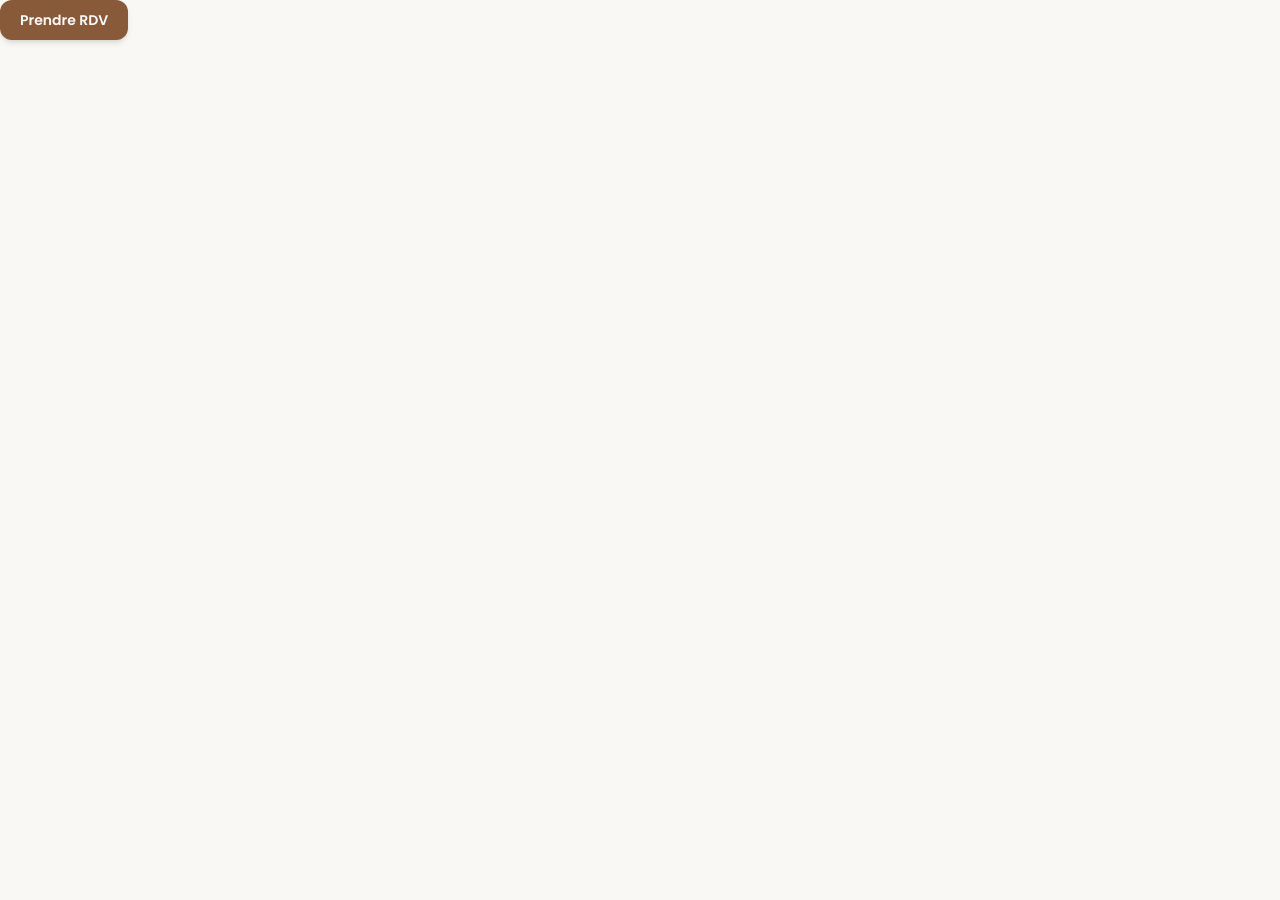
Test: booking choice › opens the choice instead of going straight to one link
The image size is (1280, 900).
Expected: the link "WhatsApp" is not shown
Click the button "Prendre RDV". click: (64, 20)
box: [0, 0, 128, 40]
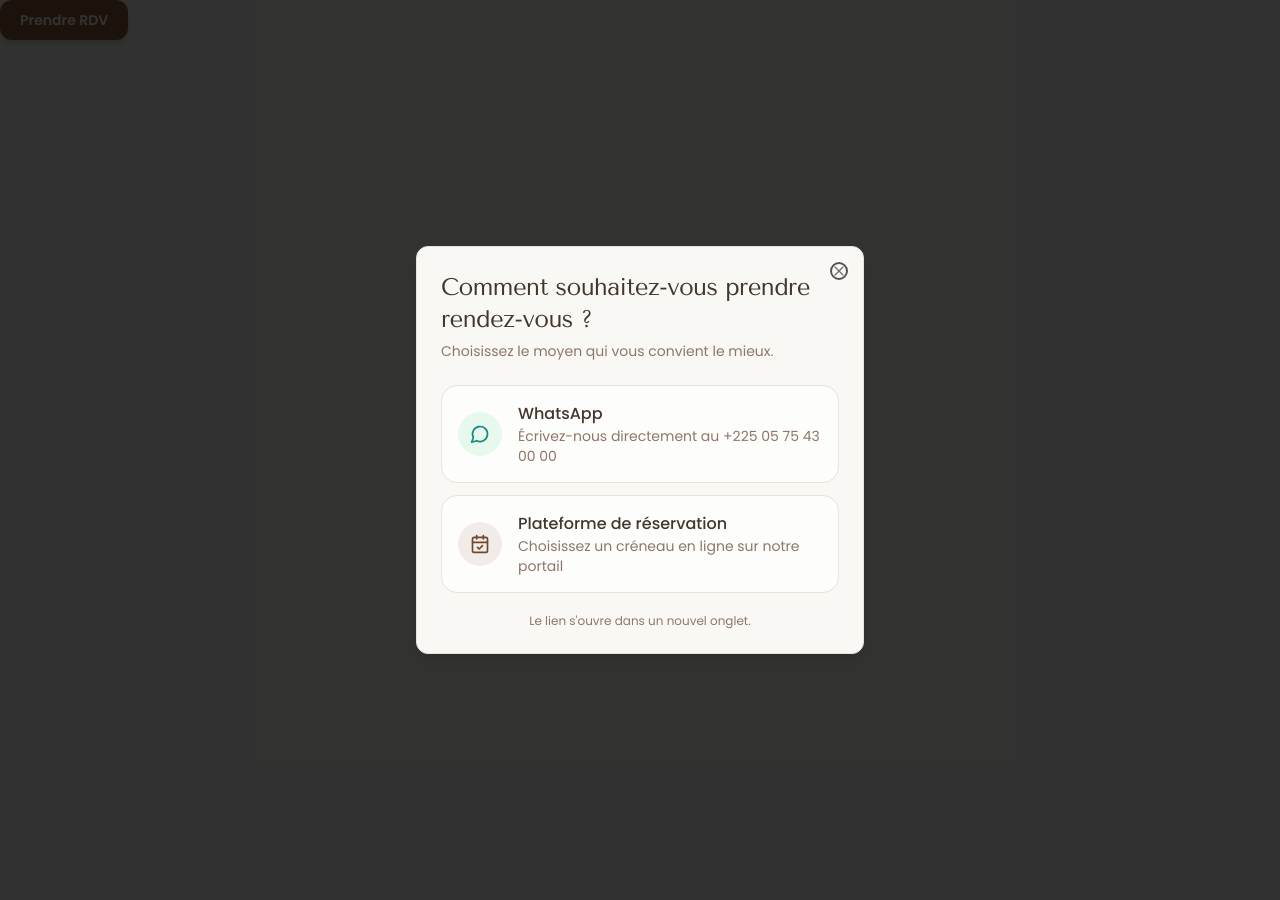
Expected: the link "WhatsApp Écrivez-nous directement au +225 05 75 43 00 00" is shown, [441, 385, 839, 483]
Expected: the link "Plateforme de réservation" is shown, [441, 495, 839, 593]
